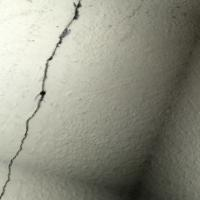crack: (1, 1, 90, 199)
